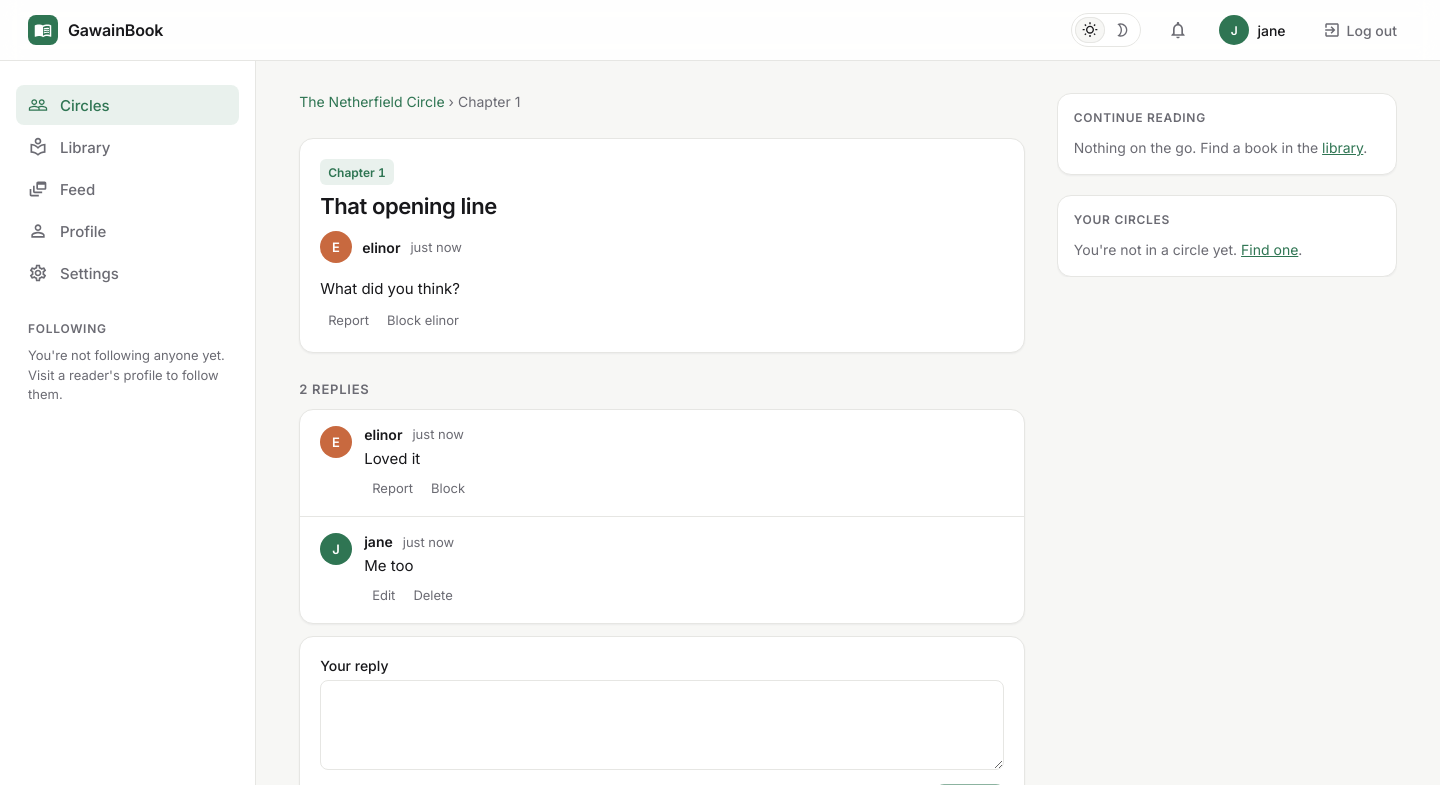
Test: editing › Save is disabled for an empty reply
Click the button with aria-label "Edit reply by jane" at (384, 595), box [364,583,403,607]
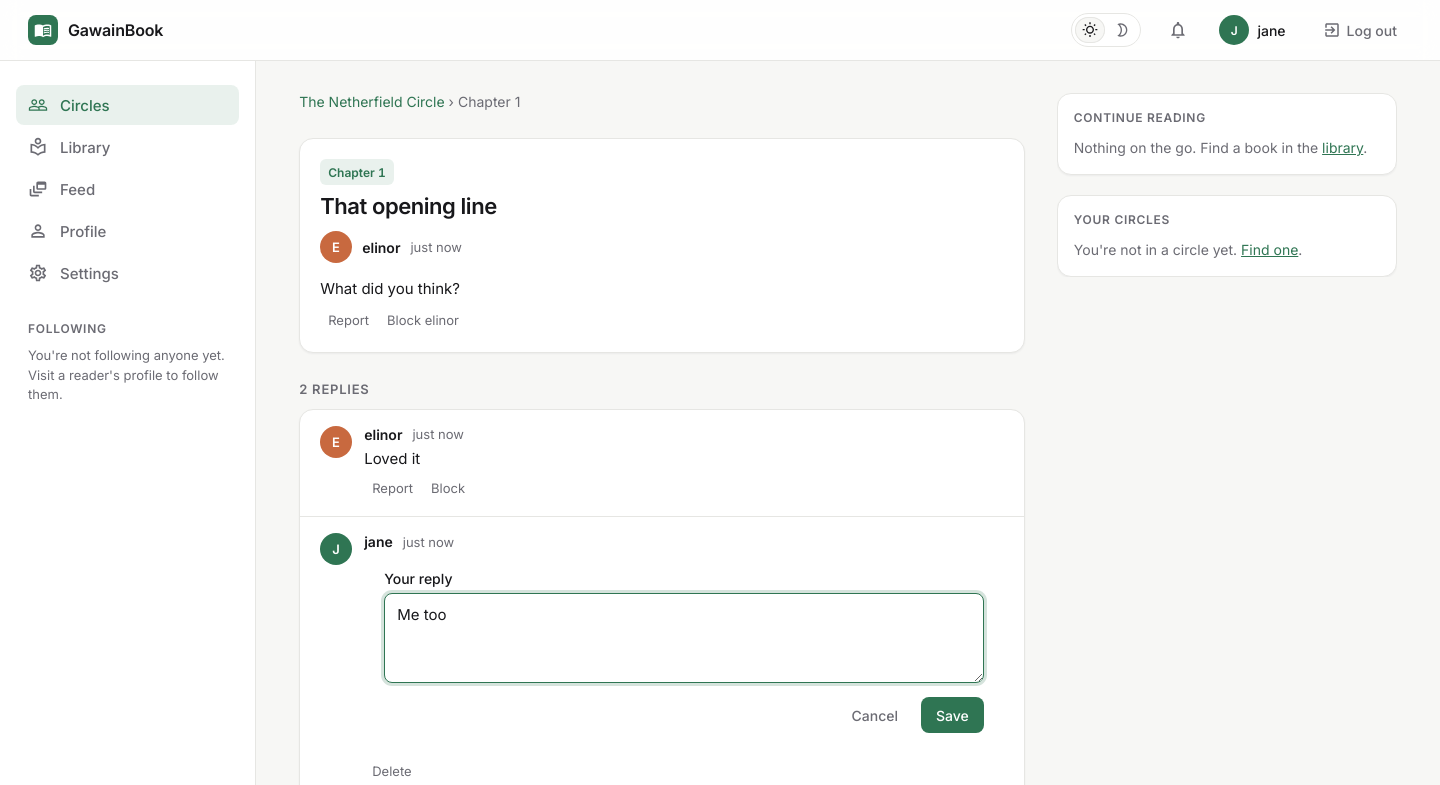
Clear the text box labelled "Your reply" at (684, 638), box [384,593,984,683]
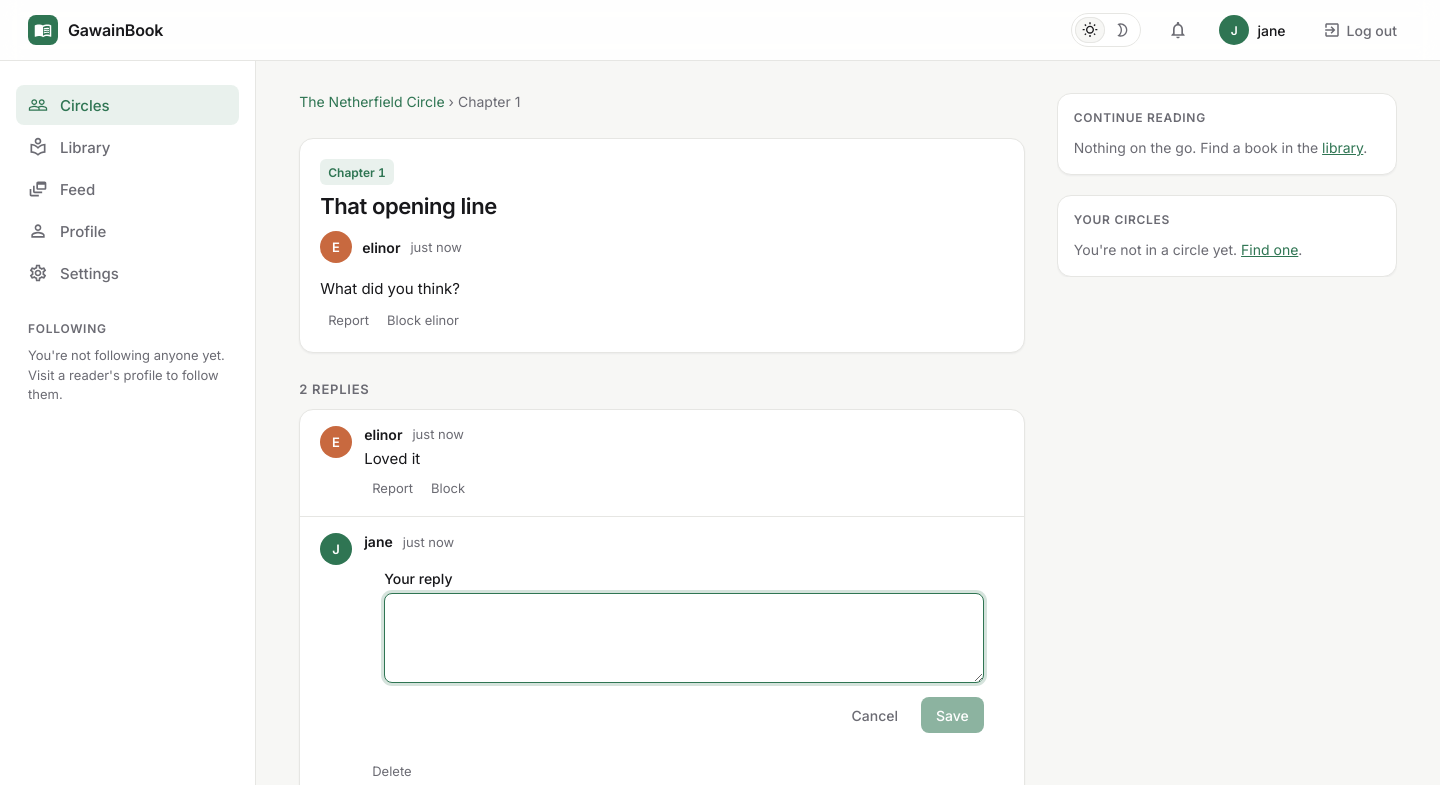
Now the button "Save" is disabled, box [921,697,984,733]
